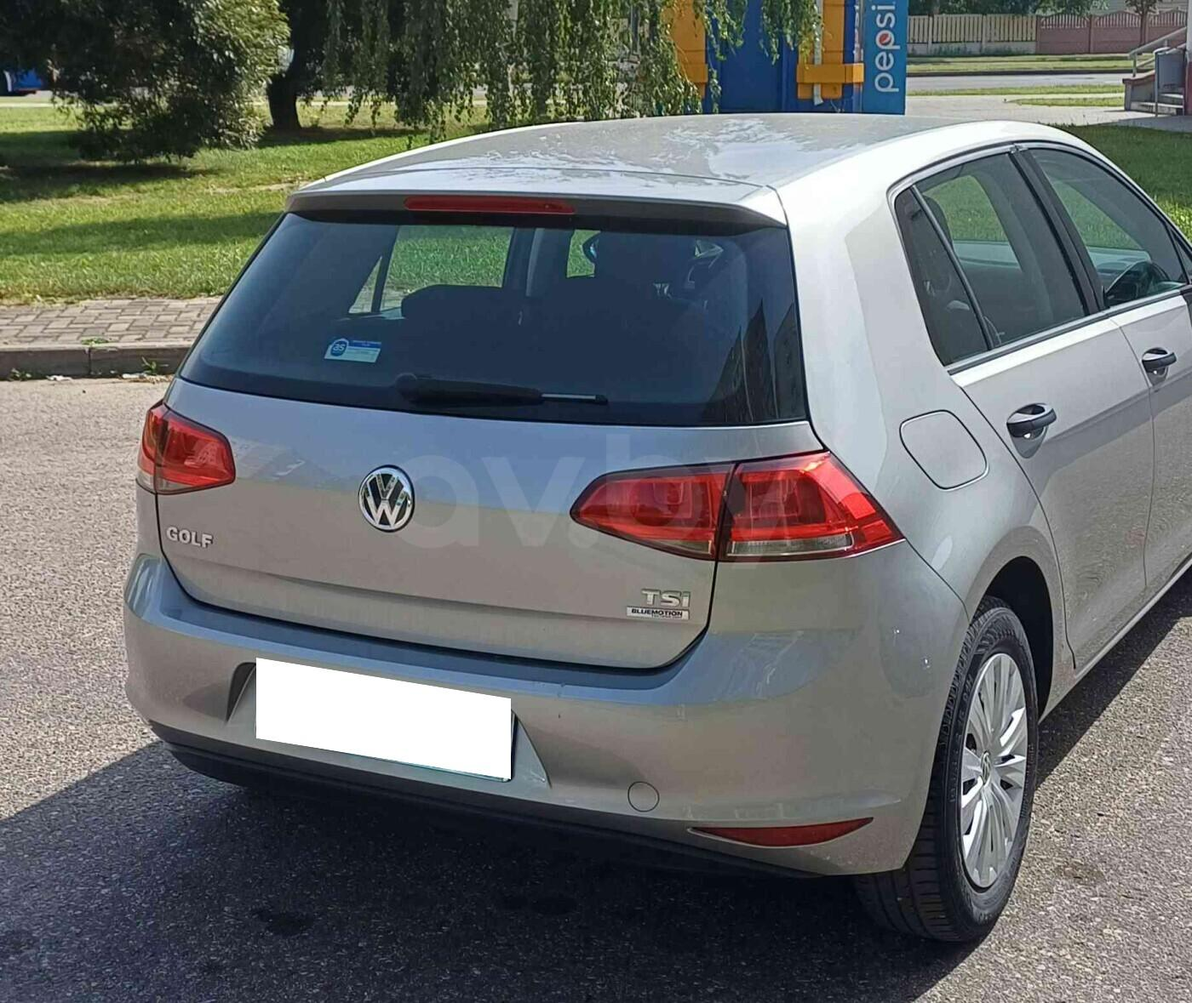Golf_2012-2017: (112, 108, 1192, 944)
